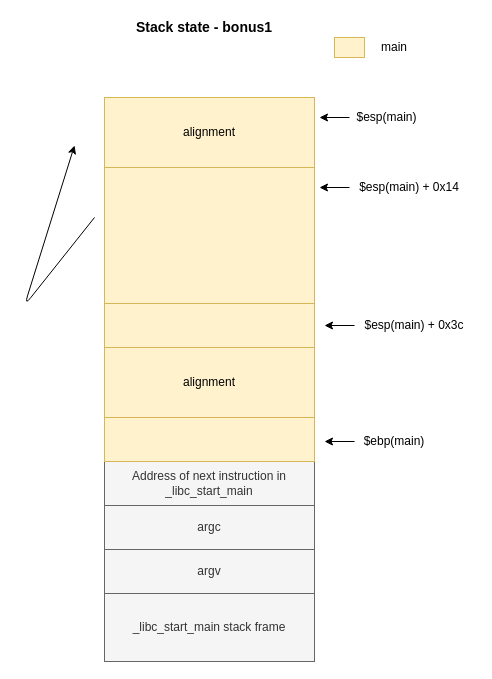
Image size: 492x679. Some labels were removed from this diagram. Each missing label, with the centre of its shape:
"Address value of stack base for _libc_start_main" belongs at (x=209, y=439).
"Buffer (40 bytes)" belongs at (x=209, y=235).
"Memory location of atoi(argv[1])" belongs at (x=209, y=325).
